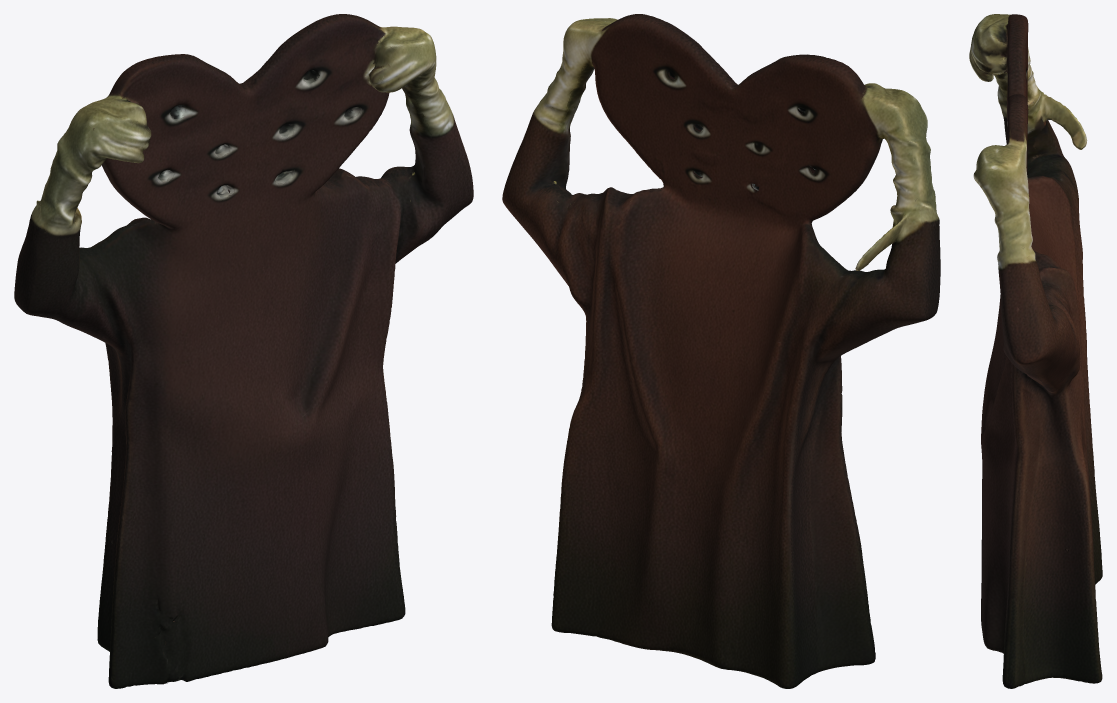
3 views of the same model, side by side, from view 1: azimuth 30°, elevation 25°; view 2: azimuth 150°, elevation 25°; view 3: azimuth 270°, elevation 25° (orthographic). The views are drawn at different scales.
Visible parts, largest first — view 1: material_0; view 2: material_0; view 3: material_0.
Boxes of the visible parts, box(x1,y1,x2,y2) form: material_0: box(14, 14, 473, 688); material_0: box(502, 14, 940, 688); material_0: box(969, 14, 1102, 688).
Bounding box in the file's own units: 0.7567 × 0.9999 × 0.2158.
